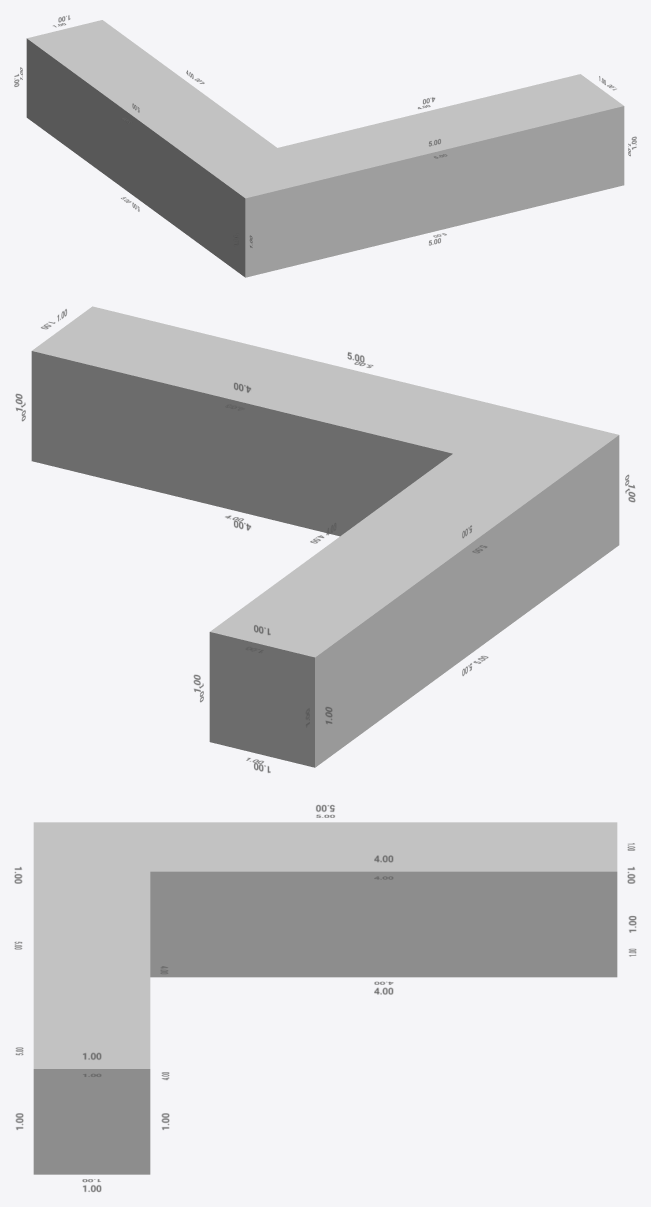
File: Elements_Dimension_Aligned.glb
3 views of the same model, one above another, from view 1: azimuth 30°, elevation 25°; view 2: azimuth 150°, elevation 25°; view 3: azimuth 270°, elevation 25° (orthographic). The views are drawn at different scales.
Parts seen in each view (by area): view 1: 99ecc464-e936-44a1-9a39-4094e71f76cf_mesh, eb934afc-4af9-40f0-809b-07f92f261680_mesh; view 2: 99ecc464-e936-44a1-9a39-4094e71f76cf_mesh, eb934afc-4af9-40f0-809b-07f92f261680_mesh; view 3: 99ecc464-e936-44a1-9a39-4094e71f76cf_mesh, eb934afc-4af9-40f0-809b-07f92f261680_mesh.
Part boxes in pixels (x1,y1,x2,y2): 99ecc464-e936-44a1-9a39-4094e71f76cf_mesh: [26, 20, 624, 277]; eb934afc-4af9-40f0-809b-07f92f261680_mesh: [14, 15, 636, 247]; 99ecc464-e936-44a1-9a39-4094e71f76cf_mesh: [31, 306, 619, 767]; eb934afc-4af9-40f0-809b-07f92f261680_mesh: [15, 309, 635, 772]; 99ecc464-e936-44a1-9a39-4094e71f76cf_mesh: [33, 822, 617, 1174]; eb934afc-4af9-40f0-809b-07f92f261680_mesh: [14, 805, 636, 1191].
Size of the model in its own units: 5.34 by 1.34 by 5.34.
2 materials, 1 textured.
